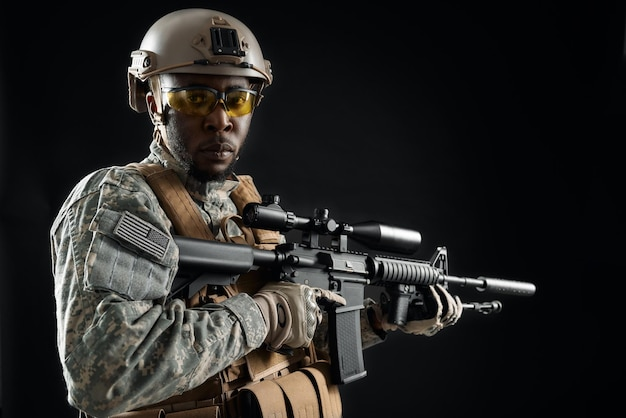gun: (164, 191, 537, 386)
